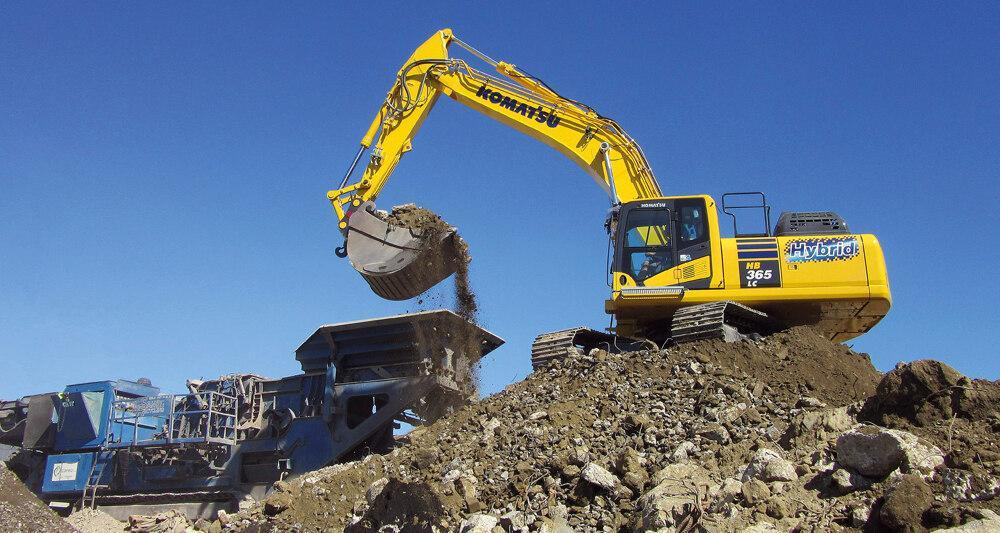excavator: (331, 27, 895, 293)
